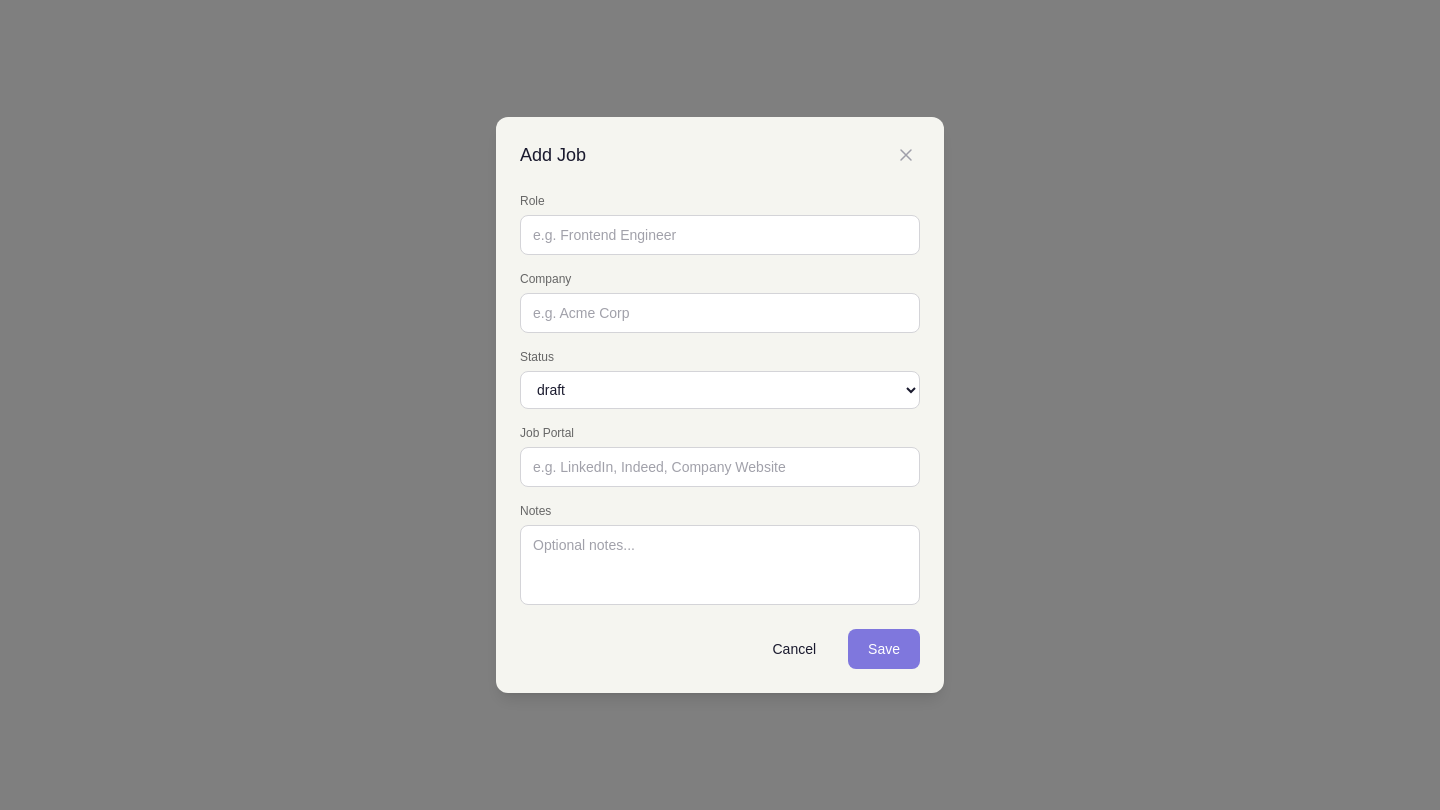
Test case: AddJobModal › shows validation errors when submitting empty form
Click the button "Save": [884, 649] box 848,629 -> 920,669
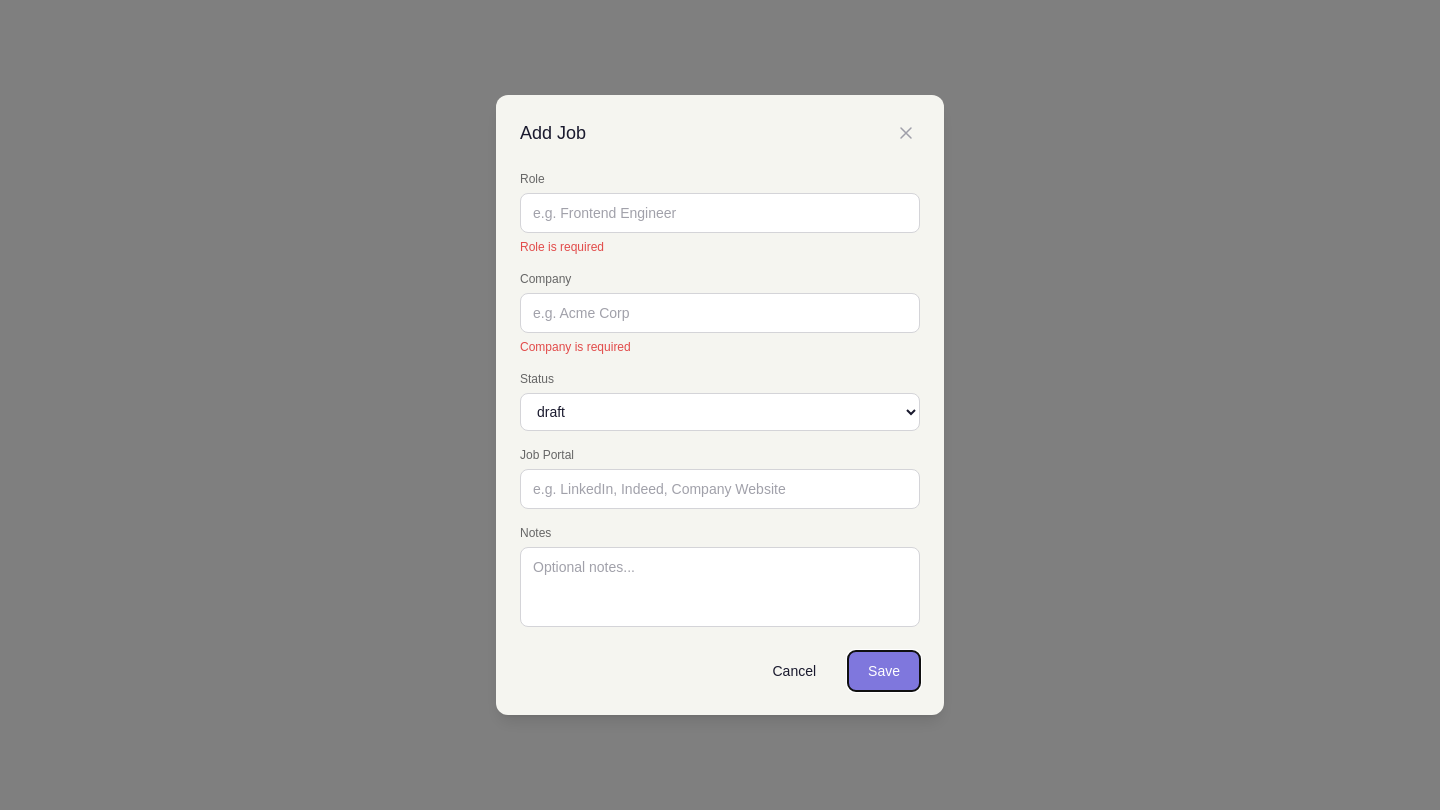
Now the text "Role is required" is shown, box 520,240 -> 604,254
Now the text "Company is required" is shown, box 520,340 -> 631,354
